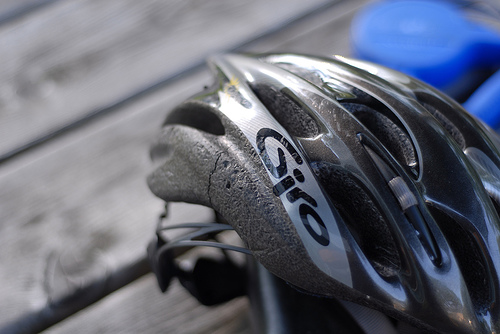helmet: (167, 59, 492, 319)
